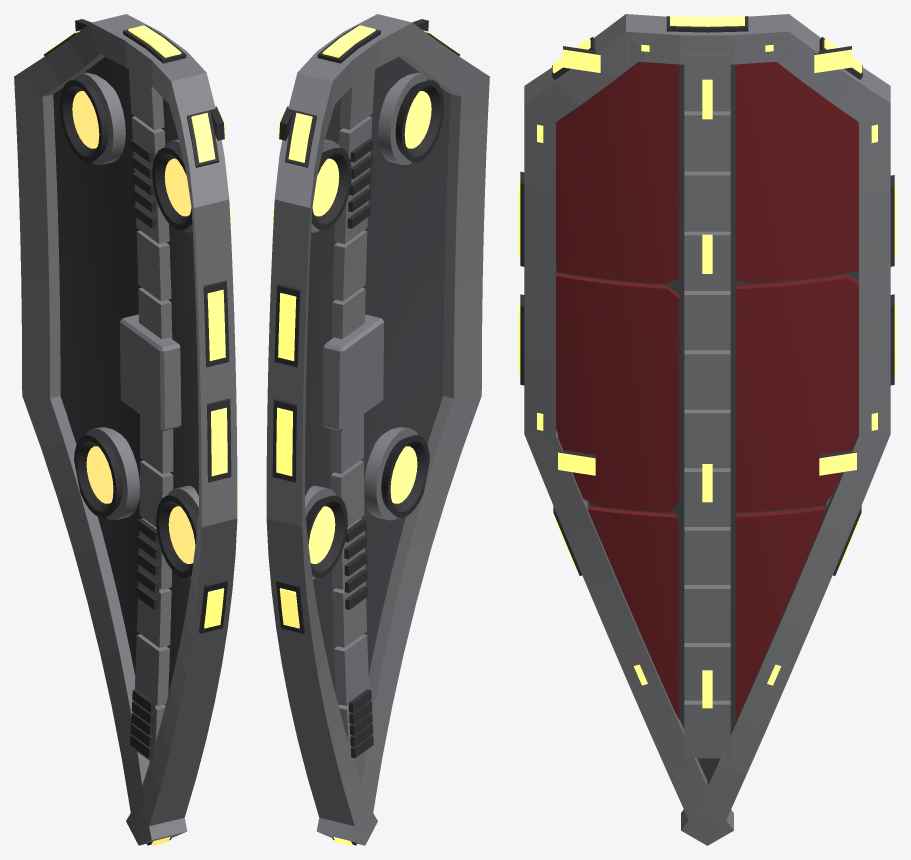
The model's file is shield_drone.glb.
The picture shows the model from 3 angles, left to right: view 1: azimuth 30°, elevation 25°; view 2: azimuth 150°, elevation 25°; view 3: azimuth 270°, elevation 25°; orthographic projection.
Parts seen in each view (by area): view 1: shield; view 2: shield; view 3: shield.
Boxes of the visible parts, x1,y1,x2,y2 form: shield: (14,14,237,845); shield: (266,14,489,845); shield: (518,14,896,845).
Bounding box in the file's own units: 0.9555 × 8.61 × 3.62.
